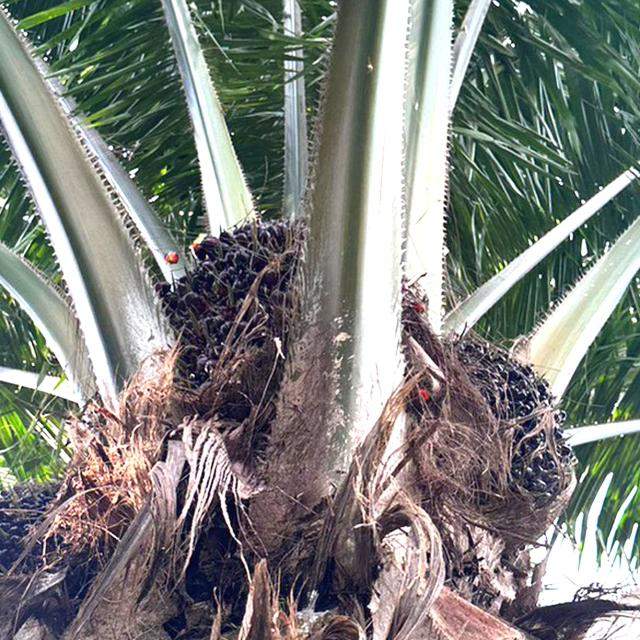ripe: (406, 288, 578, 511), (171, 216, 308, 407)
